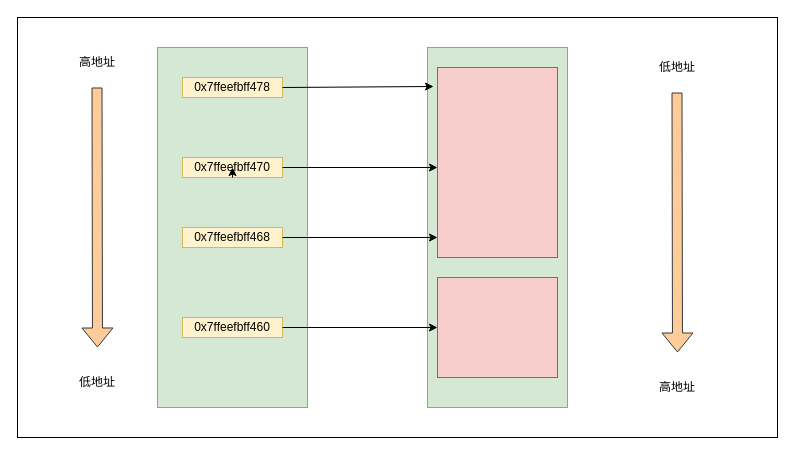
This 795x455 diagram has some shape labels left out. The centre of each missing label's shape, as x and y in pixels:
"alloc开辟的地址 0x1004084d0" goes at pixel 497 162.
"alloc开辟的地址 0x100408520" goes at pixel 497 327.
